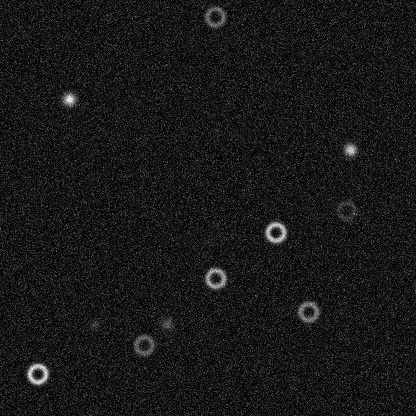Ring: (296, 299, 320, 323), (131, 333, 155, 357), (334, 198, 358, 222), (25, 361, 49, 385), (203, 266, 227, 290), (263, 220, 287, 244), (203, 4, 227, 28)
Spot: (61, 91, 77, 107), (158, 315, 174, 331), (342, 141, 358, 157), (86, 316, 102, 332)
